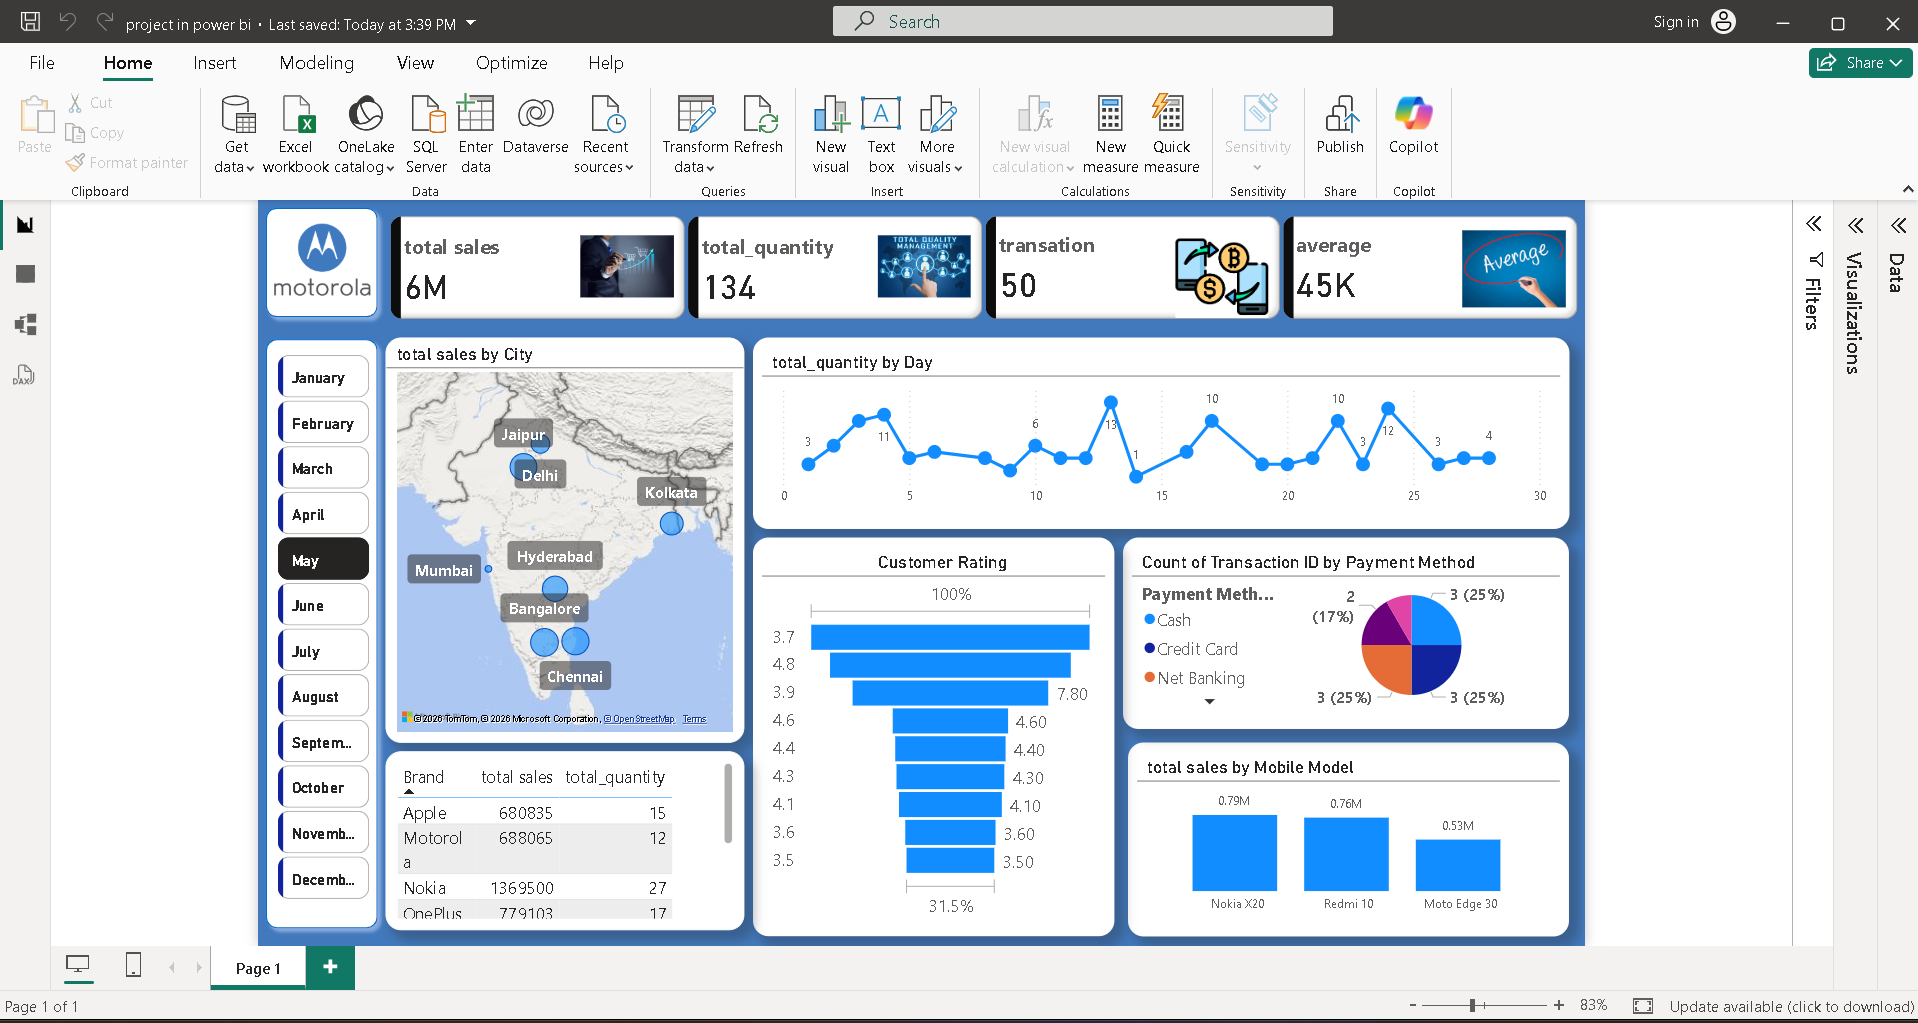

This screenshot's page, from the dashboard's own definition file:
{"tool":"powerbi","page":{"name":"Page 1","canvas":[1280,720],"ordinal":0},"visuals":[{"type":"shape","box":[0,0,123.1,120.6],"z":0},{"type":"image","box":[10.9,10.9,102.5,94.1],"z":1000},{"type":"shape","box":[0,126.7,123.1,583.9],"z":2000},{"type":"advancedSlicerVisual","fields":{"Values":["project_data.Date.Variation.Date Hierarchy.Month"]},"box":[14.5,144.8,98.9,546.5],"z":3000},{"type":"cardVisual","fields":{"Data":["project_data.total sales","project_data.total_quantity","project_data.transation","project_data.average"]},"box":[123.1,10.9,1157,109.8],"z":4000},{"type":"map","fields":{"Category":["project_data.City"],"Size":["project_data.total sales"]},"box":[123.1,132.7,346.2,390.9],"z":5000},{"type":"lineChart","fields":{"Y":["project_data.total_quantity"],"Category":["project_data.Date.Variation.Date Hierarchy.Day"]},"box":[477.8,132.7,787.8,184.6],"z":6000},{"type":"clusteredColumnChart","fields":{"Category":["project_data.Mobile Model"],"Y":["project_data.total sales"]},"box":[839.7,523.6,425.9,187],"z":7000},{"type":"pieChart","fields":{"Y":["CountNonNull(project_data.Transaction ID)"],"Category":["project_data.Payment Method"]},"box":[834.9,325.7,430.7,184.6],"z":8000},{"type":"funnel","title":"Customer Rating","fields":{"Category":["project_data.Customer Ratings"],"Y":["Sum(project_data.Customer Ratings)"]},"box":[477.8,325.7,348.7,384.9],"z":9000},{"type":"tableEx","fields":{"Values":["project_data.Brand","project_data.total sales","project_data.total_quantity"]},"box":[123.1,532,346.2,172.5],"z":10000}]}

Visuals, with their boxes on the page's 1280x720 design canvas (x1, y1, x2, y2). These are canvas units, not pixel positions in the 1918x1023 screenshot, which may show the page scaled, cropped or inside an application window:
shape: 0 0 123 121
image: 11 11 113 105
shape: 0 127 123 711
advancedSlicerVisual - project_data.Date.Variation.Date Hierarchy.Month: 14 145 113 691
cardVisual - project_data.total sales x project_data.total_quantity: 123 11 1280 121
map - project_data.City x project_data.total sales: 123 133 469 524
lineChart - project_data.total_quantity x project_data.Date.Variation.Date Hierarchy.Day: 478 133 1266 317
clusteredColumnChart - project_data.Mobile Model x project_data.total sales: 840 524 1266 711
pieChart - CountNonNull(project_data.Transaction ID) x project_data.Payment Method: 835 326 1266 510
"Customer Rating" funnel: 478 326 826 711
tableEx - project_data.Brand x project_data.total sales: 123 532 469 704
